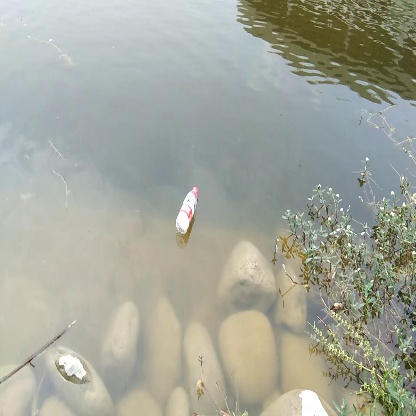bottle: (175, 186, 204, 237)
